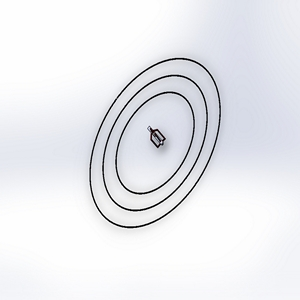circle: (87, 50, 229, 236)
submarine: (142, 122, 174, 158)
